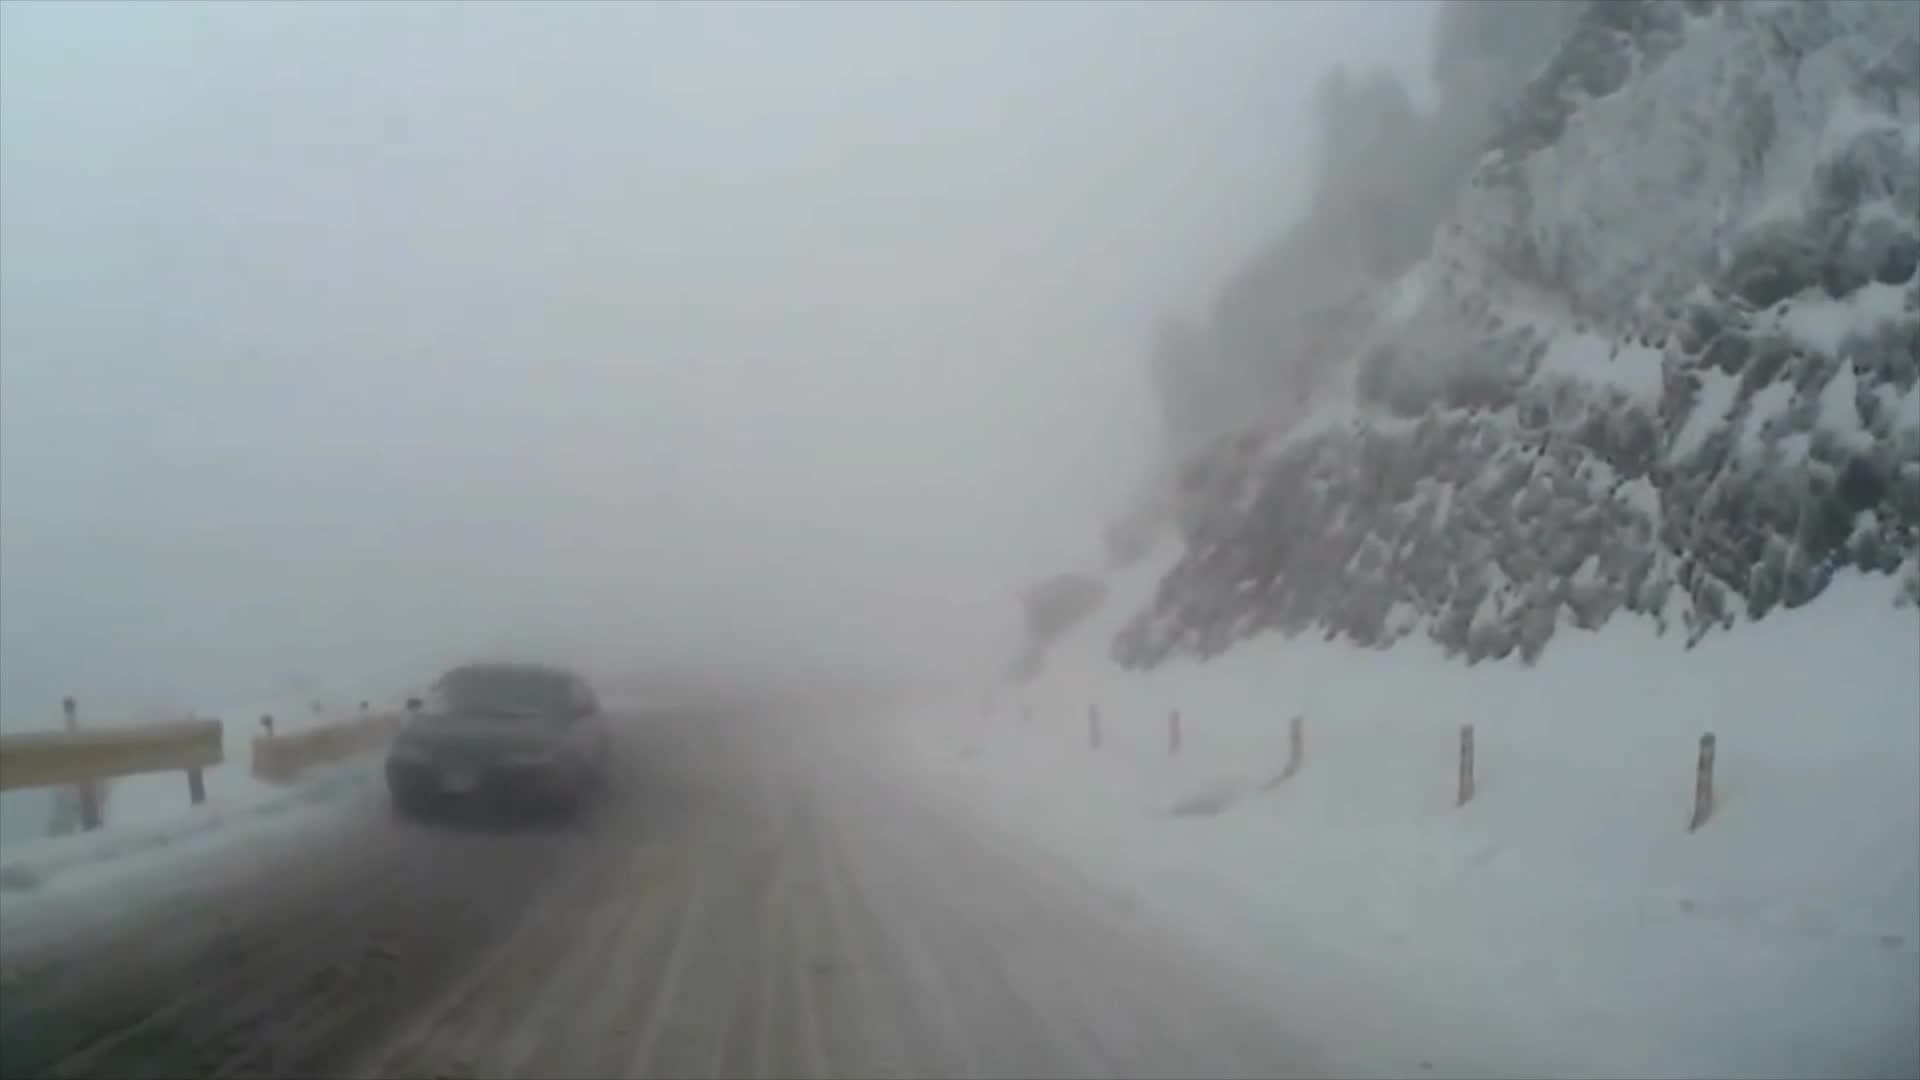vehicle: (382, 665, 612, 828)
